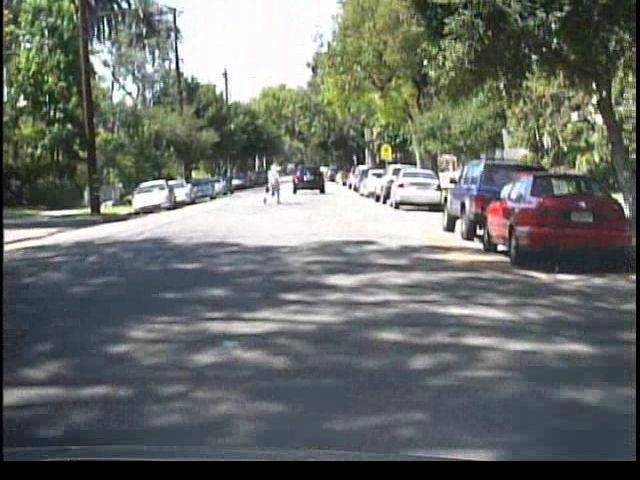person: (261, 150, 286, 198)
